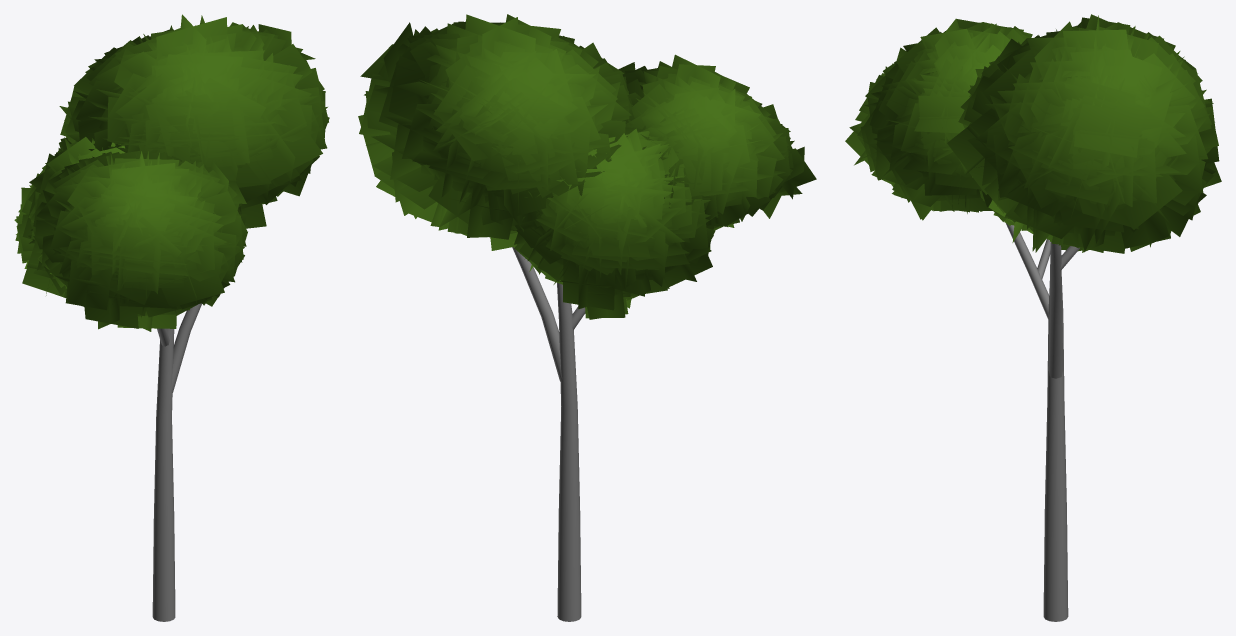
File: SM_tree_tall_01.fbx
The picture shows the model from 3 angles, left to right: view 1: azimuth 30°, elevation 25°; view 2: azimuth 150°, elevation 25°; view 3: azimuth 270°, elevation 25°; orthographic projection. The views are drawn at different scales.
Parts seen in each view (by area): view 1: Line178; view 2: Line178; view 3: Line178.
Part boxes in pixels (<box>): Line178: <box>14,14,329,621</box>; Line178: <box>358,14,816,621</box>; Line178: <box>845,14,1221,621</box>.
Bounding box in the file's own units: 187 × 305 × 169.
